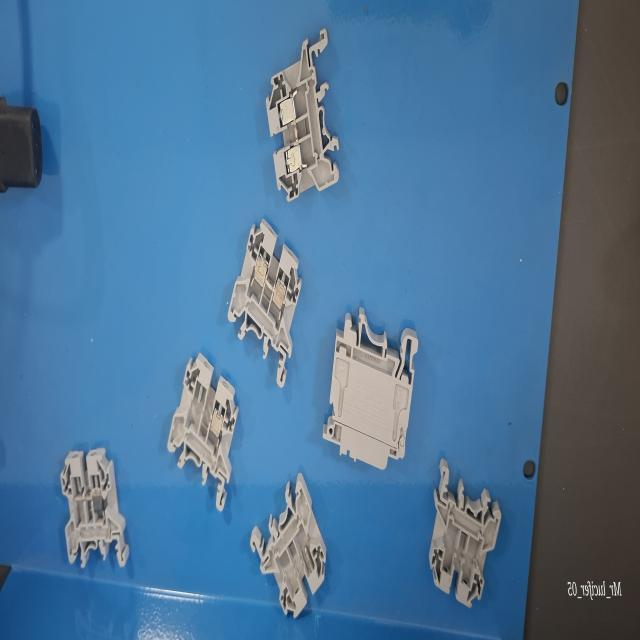Pass: (265, 23, 341, 208), (226, 216, 304, 393)
Reject: (166, 348, 238, 516), (250, 468, 328, 622), (428, 458, 502, 609), (58, 444, 130, 574)
